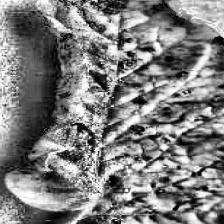disease: (2, 0, 224, 224)
